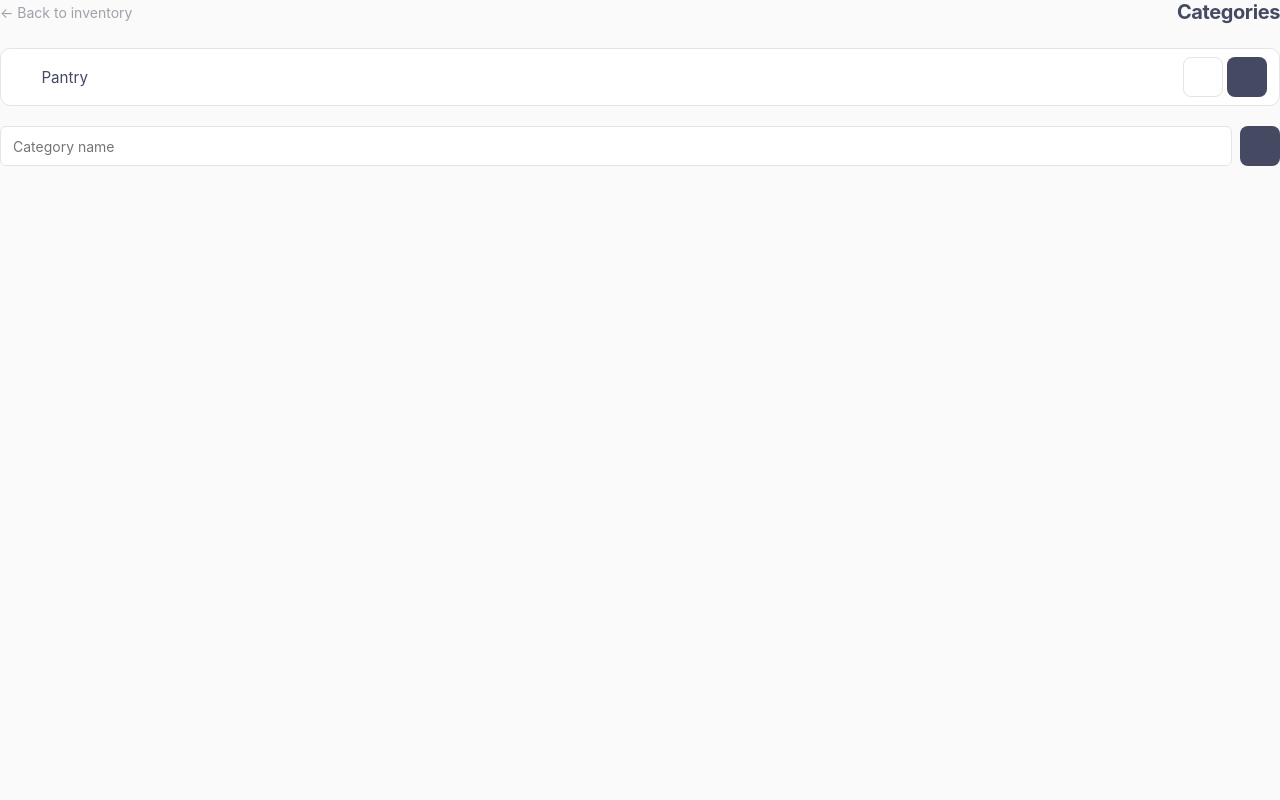
StockGroupsPage › cancels delete without firing DELETE
Click the button named "delete" at x=1203, y=77, box [1183,57,1223,97]
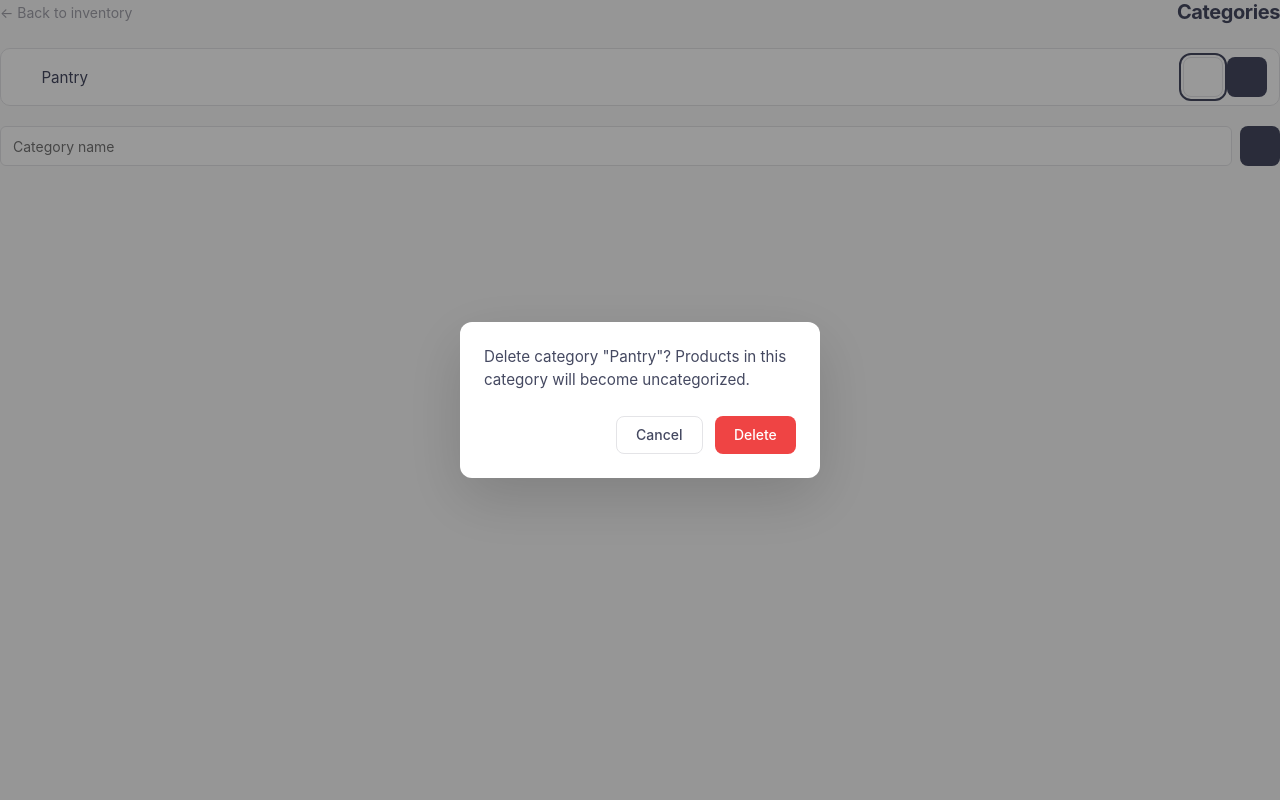
Click the button "Cancel" at x=659, y=435, box [616,416,703,454]
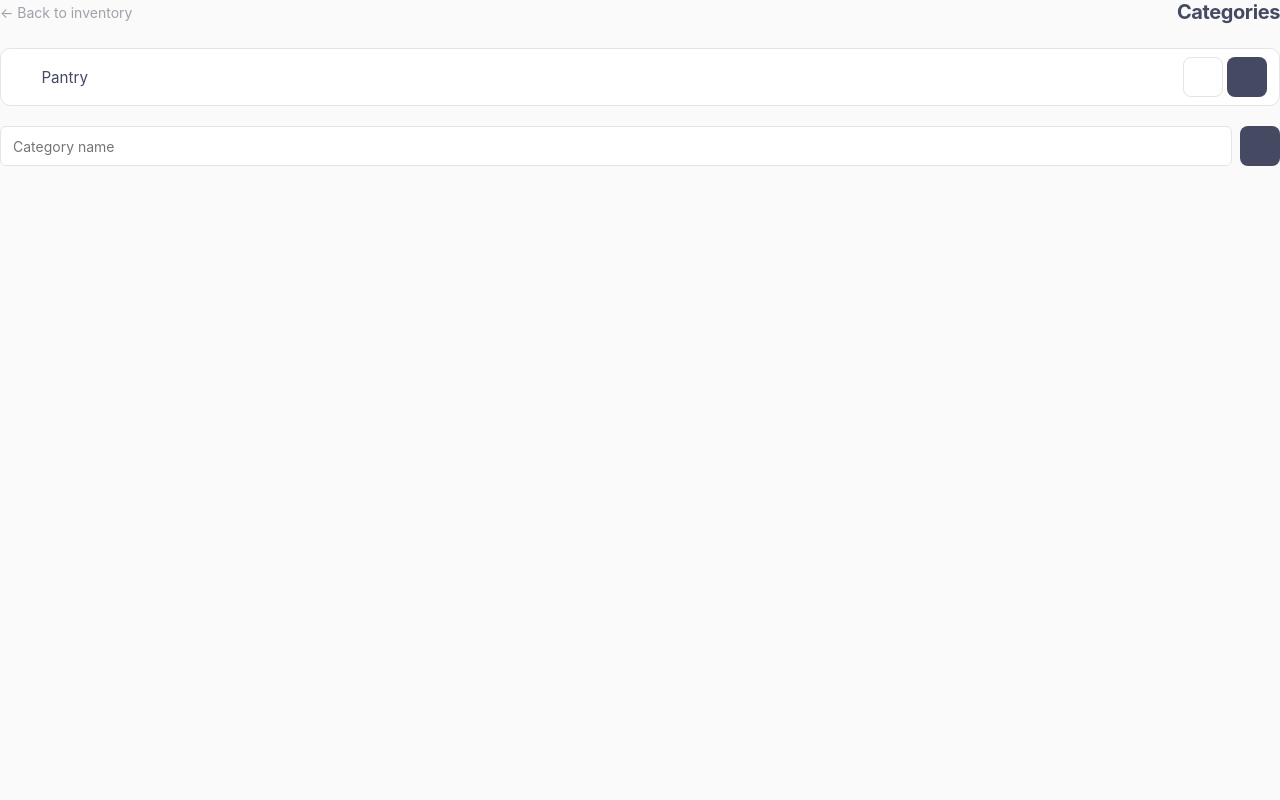
Expected: the dialog is gone
